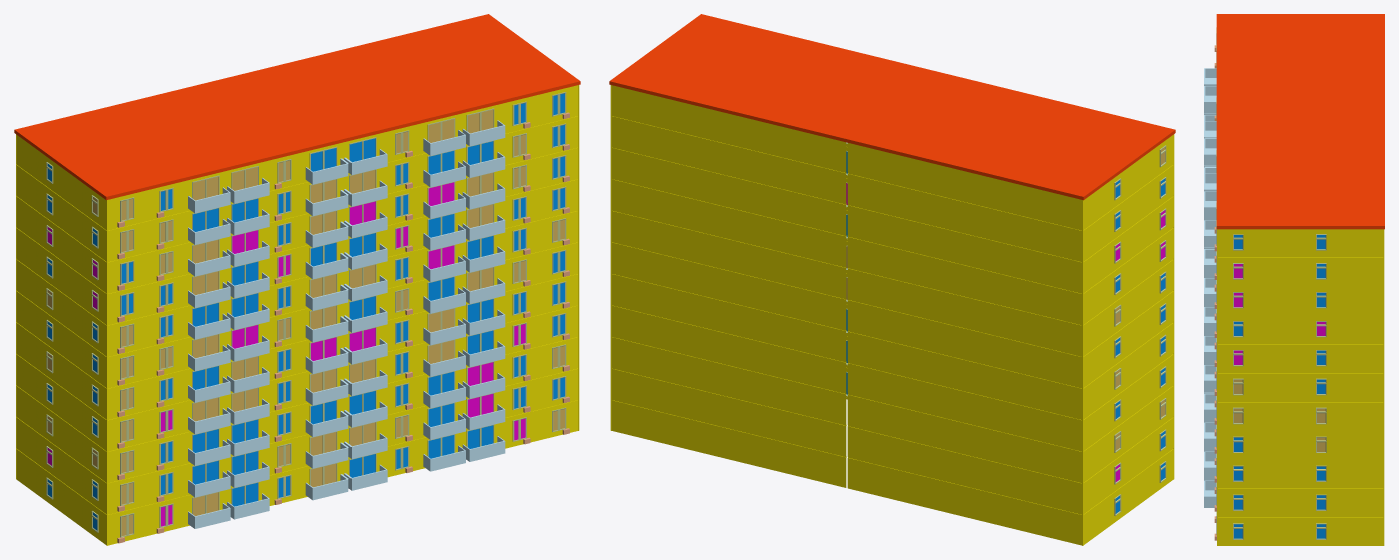
Rendered from MainBuilding_Test.fbx.
3 views of the same model, side by side, from view 1: azimuth 30°, elevation 25°; view 2: azimuth 150°, elevation 25°; view 3: azimuth 270°, elevation 25° (orthographic). The views are drawn at different scales.
Parts seen in each view (by area): view 1: pCube214; view 2: pCube214; view 3: pCube214.
Boxes of the visible parts, x1,y1,x2,y2 form: pCube214: (14, 14, 580, 545); pCube214: (609, 14, 1175, 545); pCube214: (1204, 14, 1384, 545).
Bounding box in the file's own units: 4901 × 3451 × 1765.
